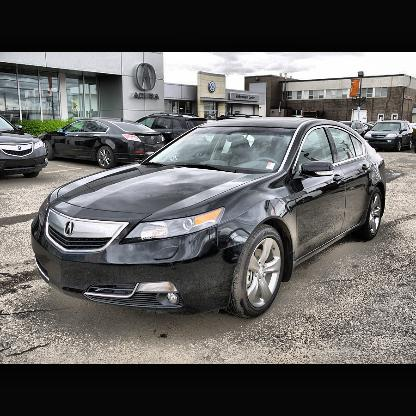Acura TL Sedan 2012: (17, 107, 401, 324)
